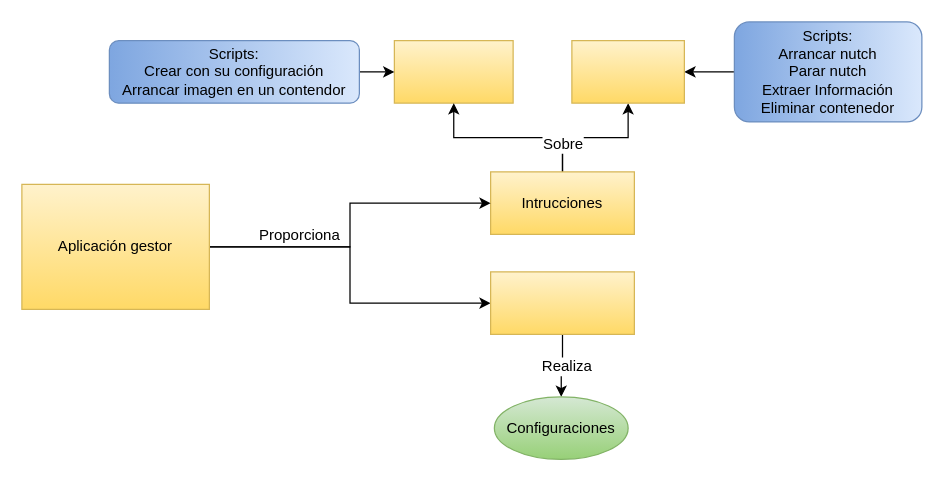
Some shapes in this 944 by 481 pixel diagram are drawn without their labels. Each missing label, with the centre of its shape:
Contenedores Docker: (627,71)
DSL: (561,302)
Imagenes Docker: (453,71)
